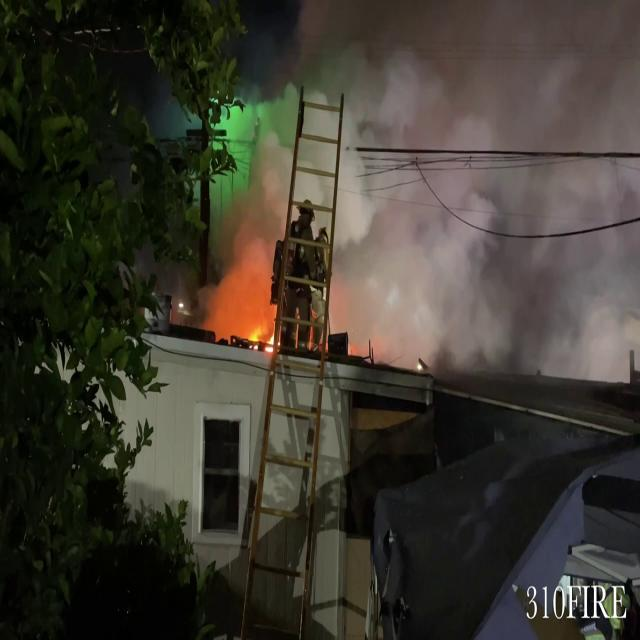Fire: (206, 298, 278, 350)
Smoke: (324, 0, 640, 376)
